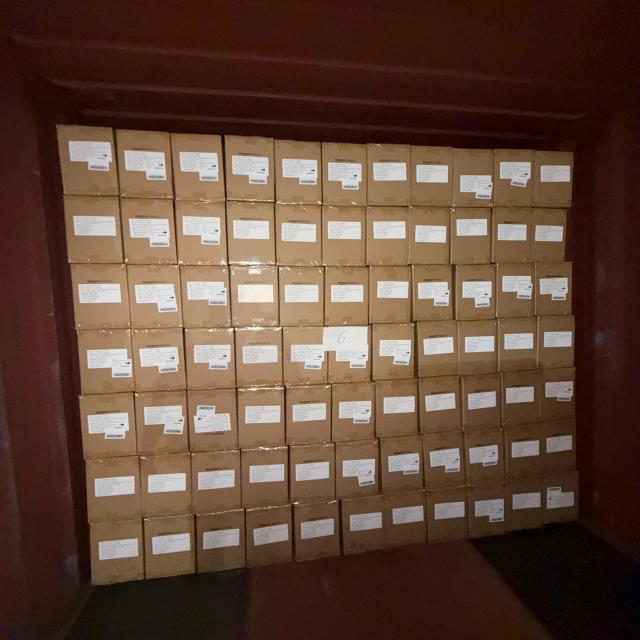Carton: (57, 127, 119, 200), (63, 193, 124, 262), (118, 132, 176, 202), (71, 262, 131, 328), (78, 393, 136, 460), (122, 196, 179, 263), (90, 523, 146, 591), (75, 330, 132, 396), (87, 458, 143, 525), (338, 492, 391, 560), (127, 263, 183, 327), (134, 390, 188, 456), (174, 137, 226, 205), (146, 517, 199, 583), (177, 200, 230, 265), (139, 453, 192, 518), (223, 134, 274, 201), (132, 327, 185, 391), (192, 451, 244, 516), (225, 198, 275, 264), (186, 326, 236, 391), (196, 509, 246, 574), (188, 389, 239, 452), (274, 142, 322, 208), (232, 263, 282, 326), (182, 264, 232, 327), (241, 448, 290, 512), (275, 200, 322, 266), (382, 488, 431, 551), (237, 326, 286, 388), (248, 504, 296, 567), (236, 388, 284, 451), (324, 142, 370, 206), (292, 501, 339, 562), (290, 442, 336, 504), (366, 147, 411, 210), (287, 386, 333, 446), (324, 265, 369, 326), (325, 204, 369, 266), (280, 264, 324, 326), (325, 327, 371, 386), (331, 384, 376, 444), (284, 326, 328, 387), (365, 203, 409, 264), (379, 435, 423, 495), (368, 265, 412, 325), (335, 438, 379, 498), (369, 324, 414, 382), (375, 381, 419, 440), (538, 416, 582, 475), (412, 148, 453, 210), (416, 321, 459, 378), (465, 431, 508, 488), (418, 374, 460, 432), (412, 265, 454, 323), (410, 204, 451, 263), (455, 152, 496, 211), (424, 433, 464, 493), (495, 262, 536, 320), (449, 206, 490, 264), (462, 373, 502, 431), (494, 153, 534, 211), (507, 421, 547, 479), (426, 488, 467, 544), (456, 264, 496, 321), (456, 321, 497, 376), (491, 204, 529, 262), (499, 319, 539, 374), (501, 372, 539, 428), (544, 471, 580, 530), (470, 487, 510, 540), (538, 154, 575, 211), (512, 475, 546, 536), (533, 205, 570, 261), (538, 316, 576, 370), (537, 262, 574, 317), (542, 369, 578, 422)
